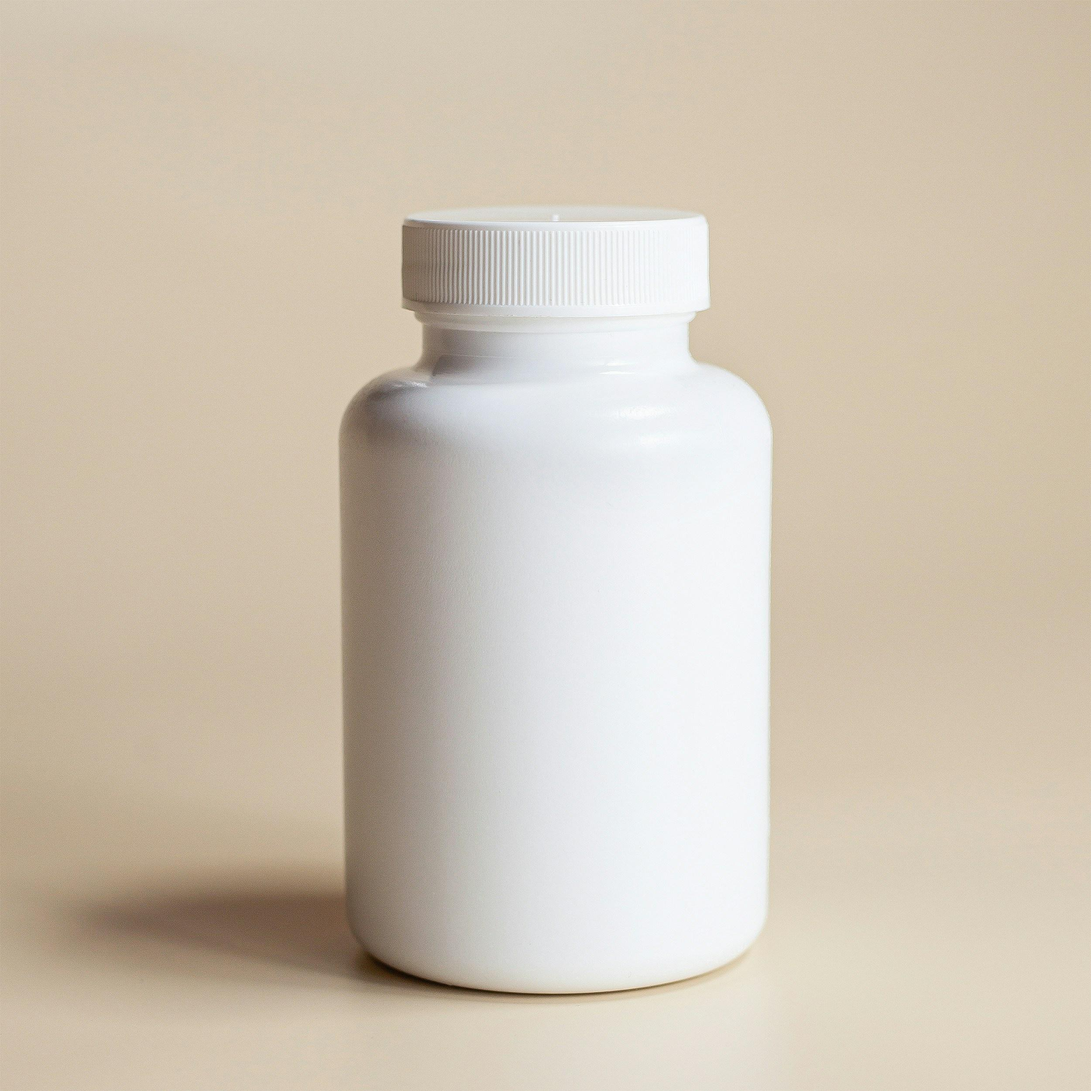Bottle-Detection: (295, 113, 829, 1030)
